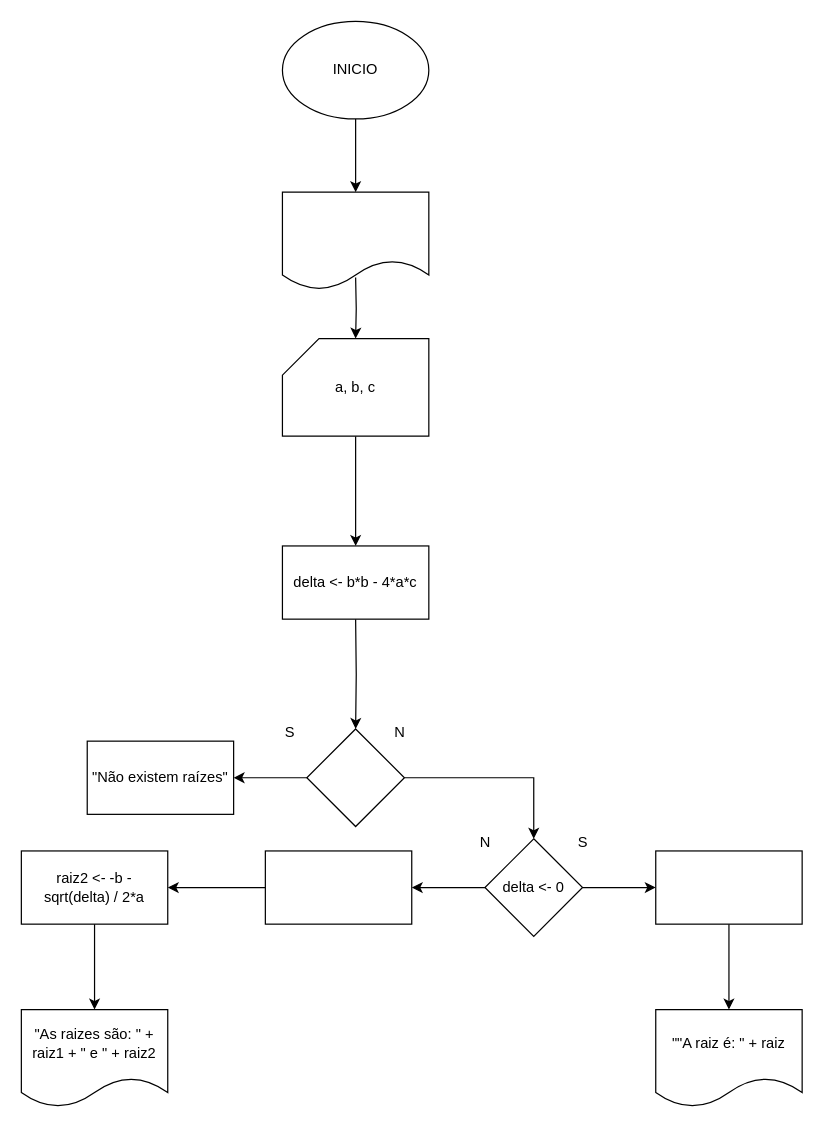
The diagram is 824 pixels wide and 1129 high, and some of its shapes have lost their labels. Each missing label, with the box of its shape:
"Digite os valores de a, b e c": (281, 191, 429, 290)
delta < 0: (306, 728, 404, 827)
raiz <- -b / 2*a: (655, 850, 802, 924)
raiz1 <- -b + sqrt(delta) / 2*a: (264, 850, 412, 924)
